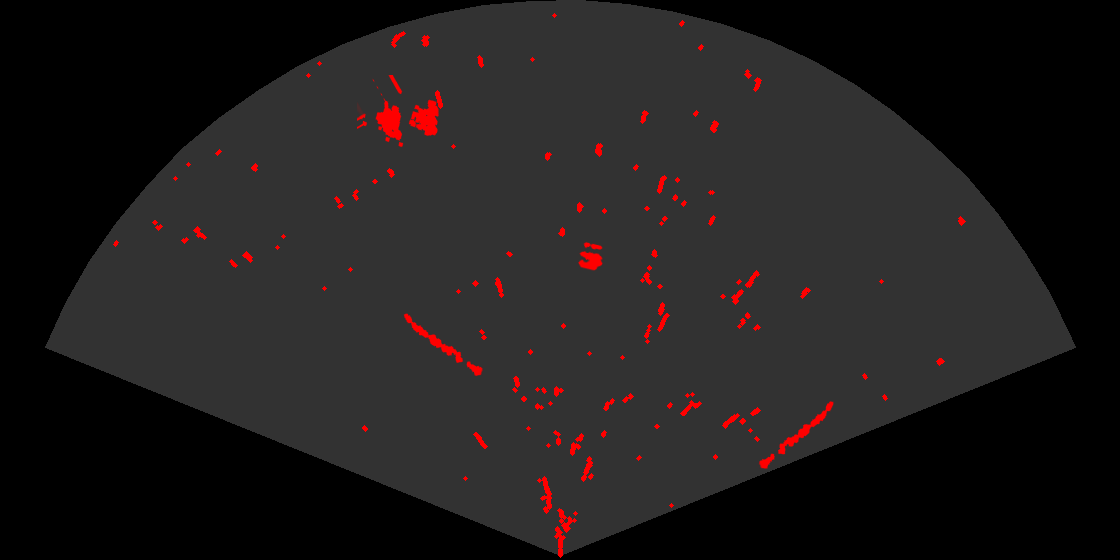ball: (577, 240, 604, 272)
cage: (357, 75, 441, 149)
chain: (757, 400, 835, 470), (402, 312, 484, 378)
